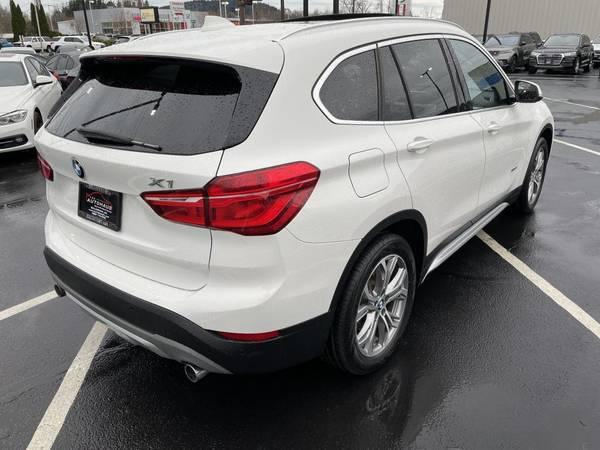Front_Right_Door: (466, 102, 539, 235)
Front_Right_Window: (450, 37, 522, 109)
Rear_Bumper: (43, 209, 360, 369)
Rear_Fender: (214, 44, 410, 245)
Rear_Right_Door: (383, 111, 485, 268)
Rear_Right_Window: (379, 38, 474, 122)
Rear_Windshield: (39, 59, 239, 153)
Right_Taillight: (133, 160, 320, 239)
Roof: (70, 17, 523, 147)
Tailgate: (35, 129, 222, 289)
Wheel: (336, 227, 424, 371), (527, 141, 552, 215)
